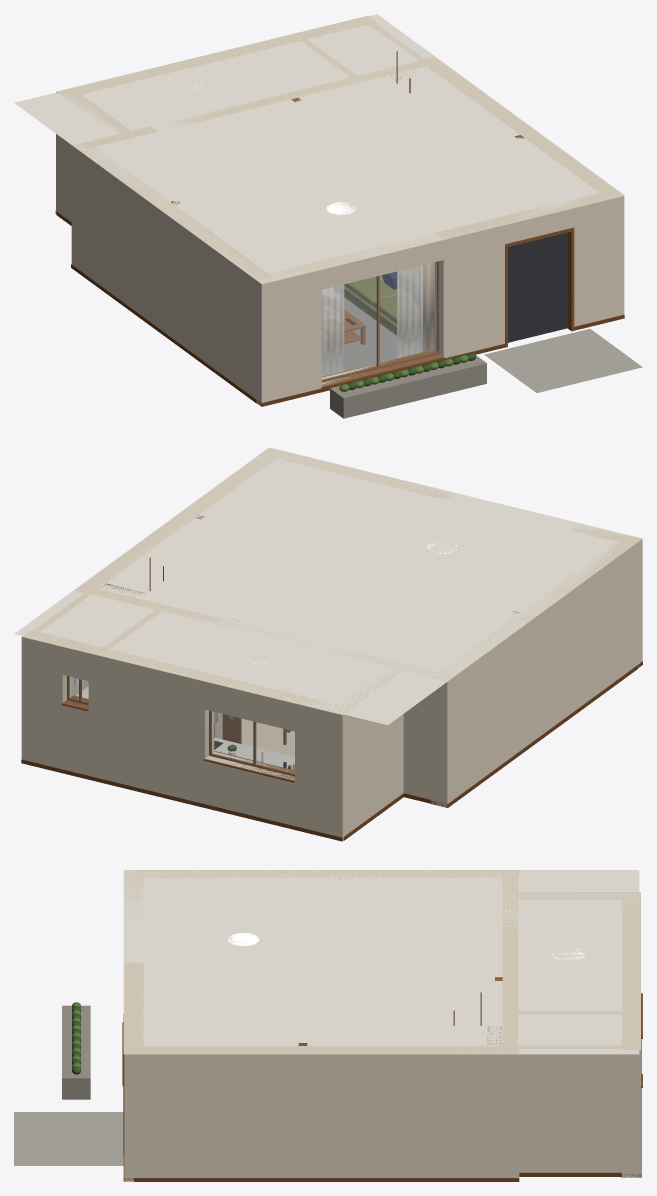
File: reality-home.glb
The picture shows the model from 3 angles, top to bottom: view 1: azimuth 30°, elevation 25°; view 2: azimuth 150°, elevation 25°; view 3: azimuth 270°, elevation 25°; orthographic projection. The views are drawn at different scales.
Parts seen in each view (by area): view 1: plane.004, box, box.007, box.002, box.014, box.020, box.088, plane.006, box.084, box.004, box.022, curtain.003 (+14 smaller); view 2: plane.004, box, box.064, box.052, box.080, box.050, box.057, box.055, box.054, box.022, box.024, box.071 (+10 smaller); view 3: plane.004, box.022, box.082, plane.006, box, box.020, box.080, box.084, box.023, box.064, box.050, box.054 (+7 smaller).
Part boxes in pixels (x1,y1,x2,y2): plane.004: (14,14,624,284); box: (71,141,272,395); box.007: (322,261,443,385); box.002: (252,262,321,406); box.014: (434,217,507,358); box.020: (564,189,624,326); box.088: (508,232,567,342); plane.006: (484,329,642,392); box.084: (330,353,486,418); box.004: (313,235,443,289); box.022: (419,56,618,195); curtain.003: (397,265,422,358); plane.004: (14,447,642,725); box: (431,538,637,807); box.064: (90,647,214,803); box.052: (295,697,352,840); box.080: (21,630,72,769); box.050: (329,668,403,830); box.057: (205,710,294,780); box.055: (205,752,294,825); box.054: (205,674,303,731); box.022: (74,451,280,594); box.024: (368,656,445,799); box.071: (62,702,88,775); plane.004: (123,870,639,1054); box.022: (134,1046,519,1177); box.082: (518,1045,631,1172); plane.006: (14,1112,123,1165); box: (134,870,519,877); box.020: (124,1027,143,1181); box.080: (622,1030,640,1177); box.084: (62,1005,90,1099); box.023: (134,1178,519,1181); box.064: (622,959,640,1016); box.050: (518,892,639,899); box.054: (622,915,640,959).
Size of the model in its own units: 8.38 by 3.47 by 12.07.
